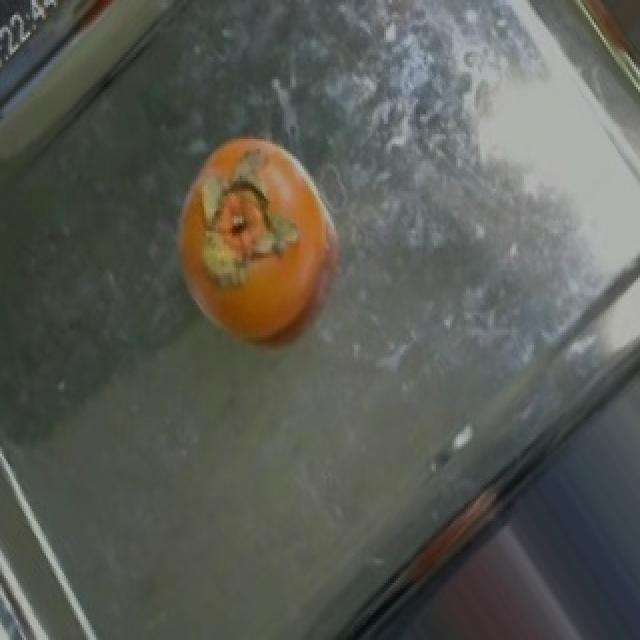Fruit: (156, 119, 366, 372)
